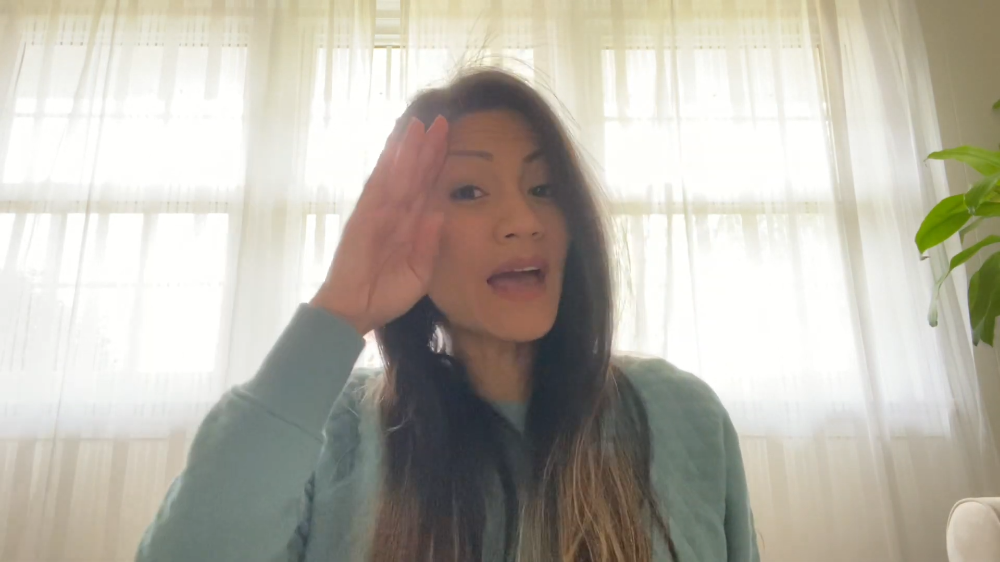hello: (332, 115, 456, 325)
